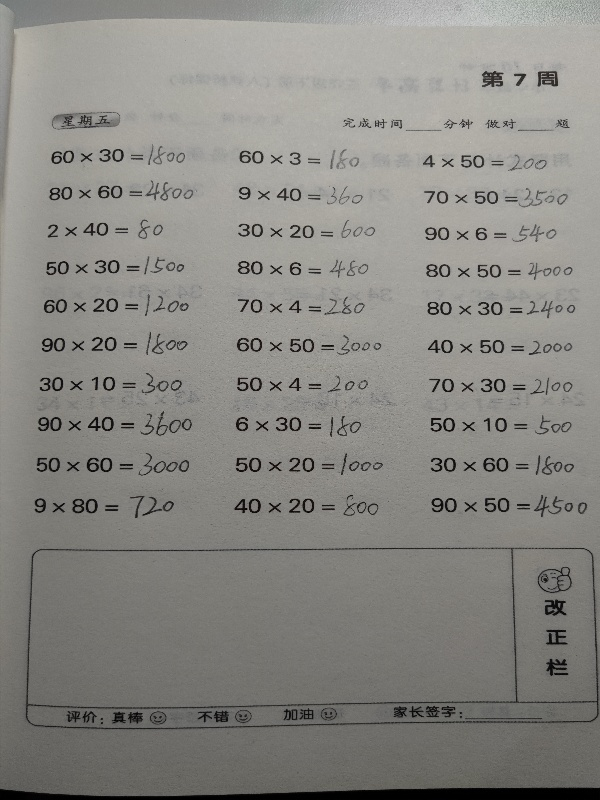equation: (36, 406, 200, 440), (31, 447, 201, 478), (32, 489, 182, 521), (431, 491, 589, 521), (425, 409, 581, 439), (232, 410, 370, 443), (232, 491, 384, 520), (45, 177, 202, 205), (40, 293, 197, 321), (232, 368, 378, 398), (231, 451, 393, 478), (42, 330, 197, 358), (235, 330, 390, 358), (46, 141, 189, 170), (425, 452, 583, 478), (421, 185, 572, 212), (424, 332, 578, 358), (424, 371, 578, 397), (237, 253, 374, 282), (235, 216, 380, 243), (424, 297, 580, 322), (45, 252, 189, 279), (423, 259, 577, 284), (234, 293, 374, 320), (38, 370, 189, 395), (420, 221, 560, 247), (235, 146, 363, 174), (235, 182, 367, 209), (44, 216, 167, 244), (420, 151, 551, 176)
